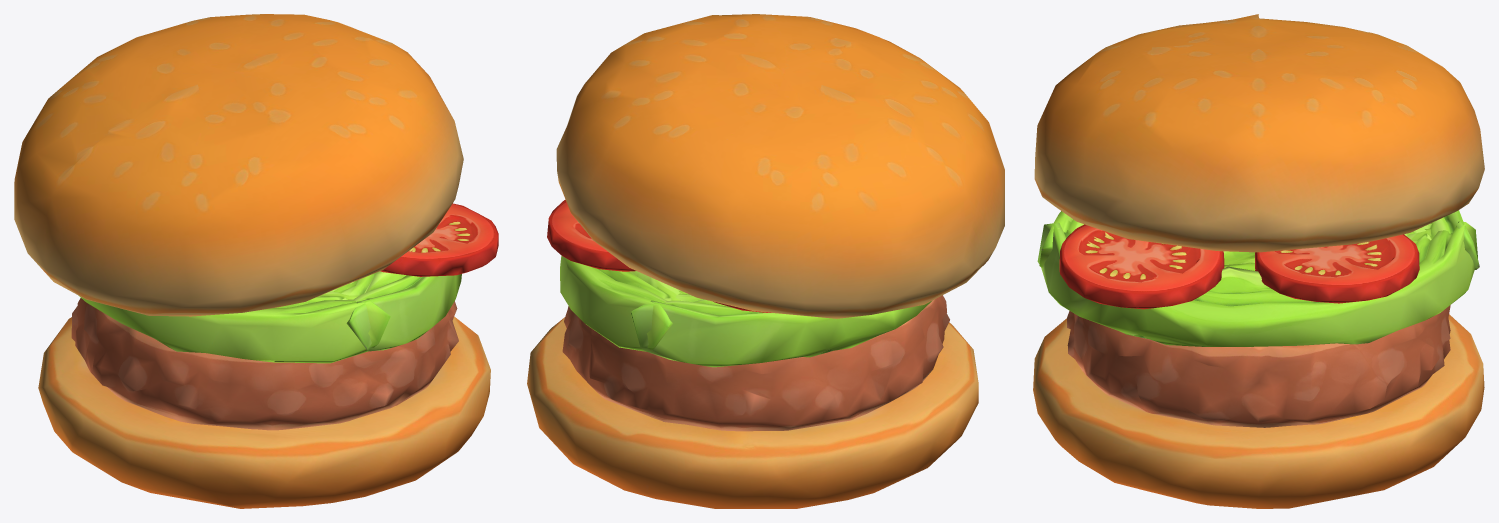
File: Veg Burger.fbx
The picture shows the model from 3 angles, left to right: view 1: azimuth 30°, elevation 25°; view 2: azimuth 150°, elevation 25°; view 3: azimuth 270°, elevation 25°; orthographic projection.
Visible parts, largest first — view 1: Bread_Top, Bread_Bottom, Meat Patty Cooked, Cabbage, tripo_node_eed0a87c.004; view 2: Bread_Top, Bread_Bottom, Meat Patty Cooked, Cabbage, tripo_node_eed0a87c.004; view 3: Bread_Top, Bread_Bottom, Meat Patty Cooked, Cabbage, tripo_node_eed0a87c.004.
Boxes of the visible parts, left/top/right/bottom form: Bread_Top: left=14, top=14, right=463, bottom=316; Bread_Bottom: left=38, top=316, right=490, bottom=508; Meat Patty Cooked: left=71, top=298, right=458, bottom=430; Cabbage: left=78, top=271, right=461, bottom=363; tripo_node_eed0a87c.004: left=380, top=203, right=498, bottom=276; Bread_Top: left=556, top=14, right=1004, bottom=318; Bread_Bottom: left=527, top=317, right=978, bottom=508; Meat Patty Cooked: left=562, top=295, right=949, bottom=431; Cabbage: left=560, top=255, right=931, bottom=367; tripo_node_eed0a87c.004: left=547, top=200, right=770, bottom=312; Bread_Top: left=1034, top=14, right=1484, bottom=252; Bread_Bottom: left=1033, top=314, right=1484, bottom=508; Meat Patty Cooked: left=1067, top=305, right=1450, bottom=427; Cabbage: left=1037, top=210, right=1479, bottom=346; tripo_node_eed0a87c.004: left=1059, top=224, right=1419, bottom=309.
Bounding box in the file's own units: 106 × 94.87 × 99.9.
